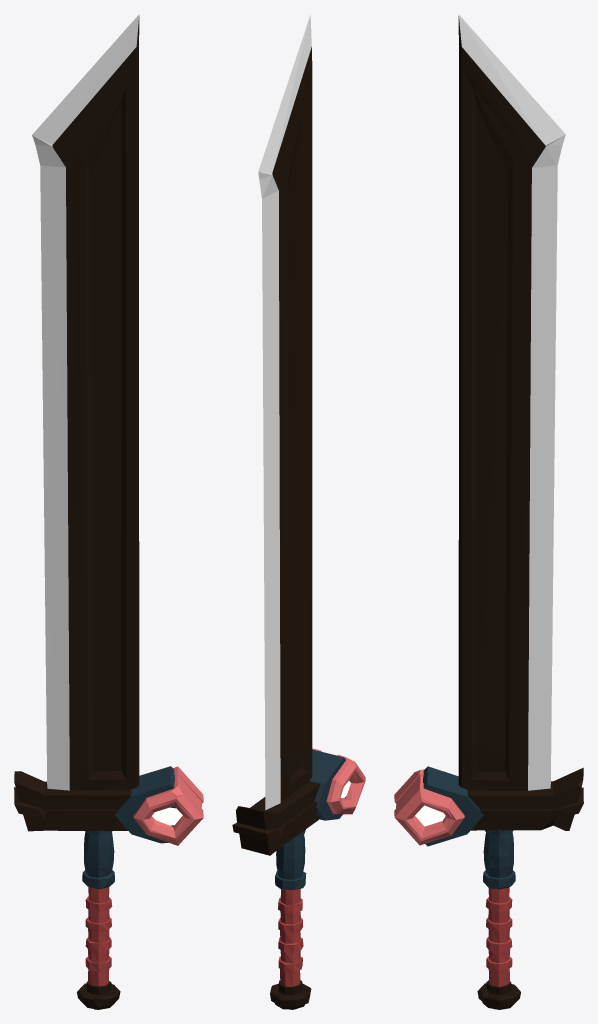
The model's file is SFFA_Weapon_Sword_Iron_006.fbx.
3 views of the same model, side by side, from view 1: azimuth 90°, elevation 25°; view 2: azimuth 150°, elevation 25°; view 3: azimuth 270°, elevation 25° (orthographic).
Parts seen in each view (by area): view 1: SFFA_Weapon_Sword_Iron_006; view 2: SFFA_Weapon_Sword_Iron_006; view 3: SFFA_Weapon_Sword_Iron_006.
Part boxes in pixels (<box>): SFFA_Weapon_Sword_Iron_006: <box>14,14,203,1009</box>; SFFA_Weapon_Sword_Iron_006: <box>232,14,365,1009</box>; SFFA_Weapon_Sword_Iron_006: <box>394,14,583,1009</box>.
Bounding box in the file's own units: 7.46 × 125 × 21.61.
